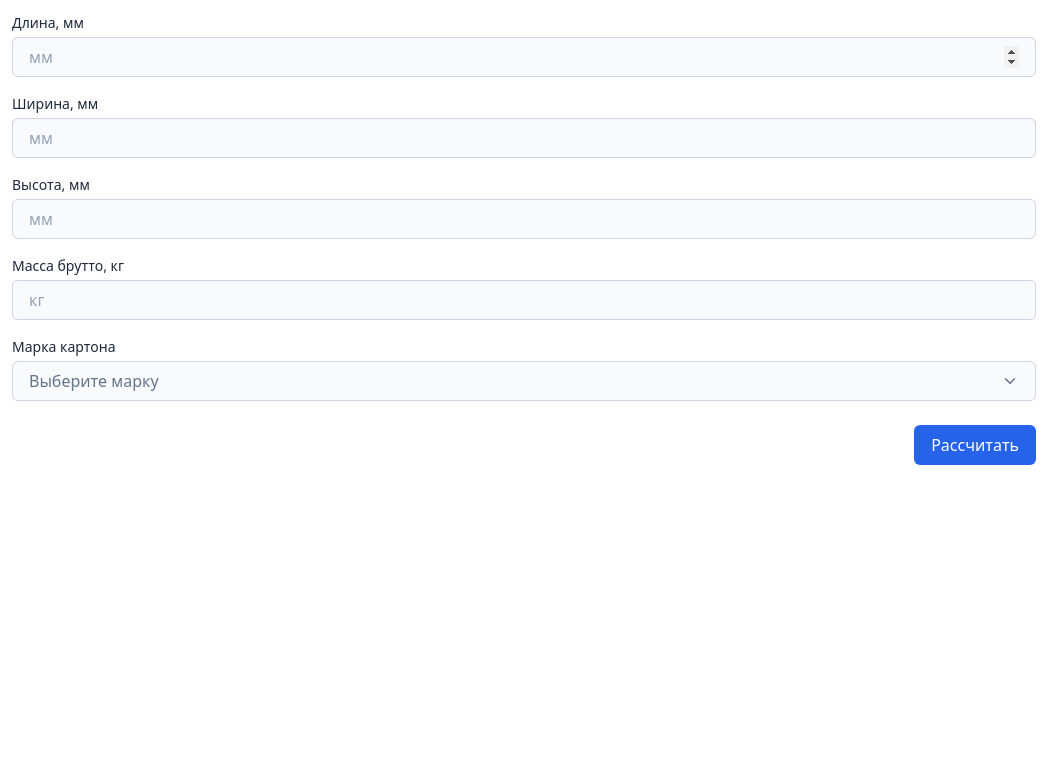
Test: BoxInputForm › валидация › показывает ошибку для нулевого значения
In the number field labelled "Длина, мм": (524, 57) [12,37,1036,77], type "0"
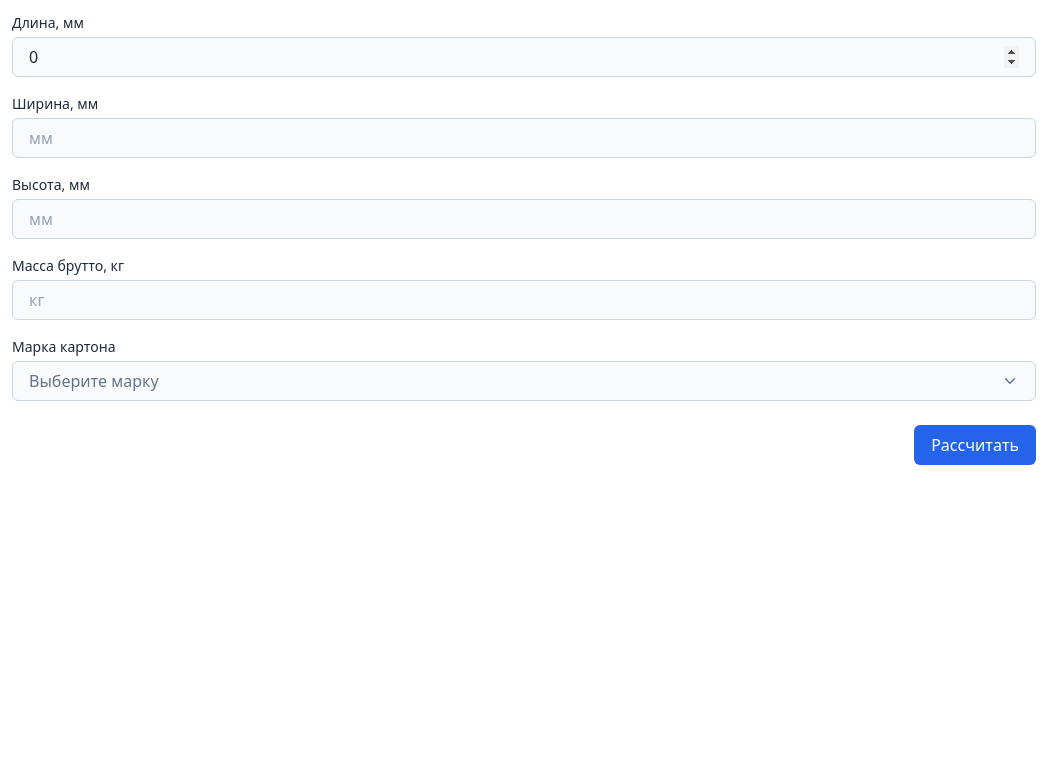
Submit the form with test id "box-input-form", box [12,12,1036,465]
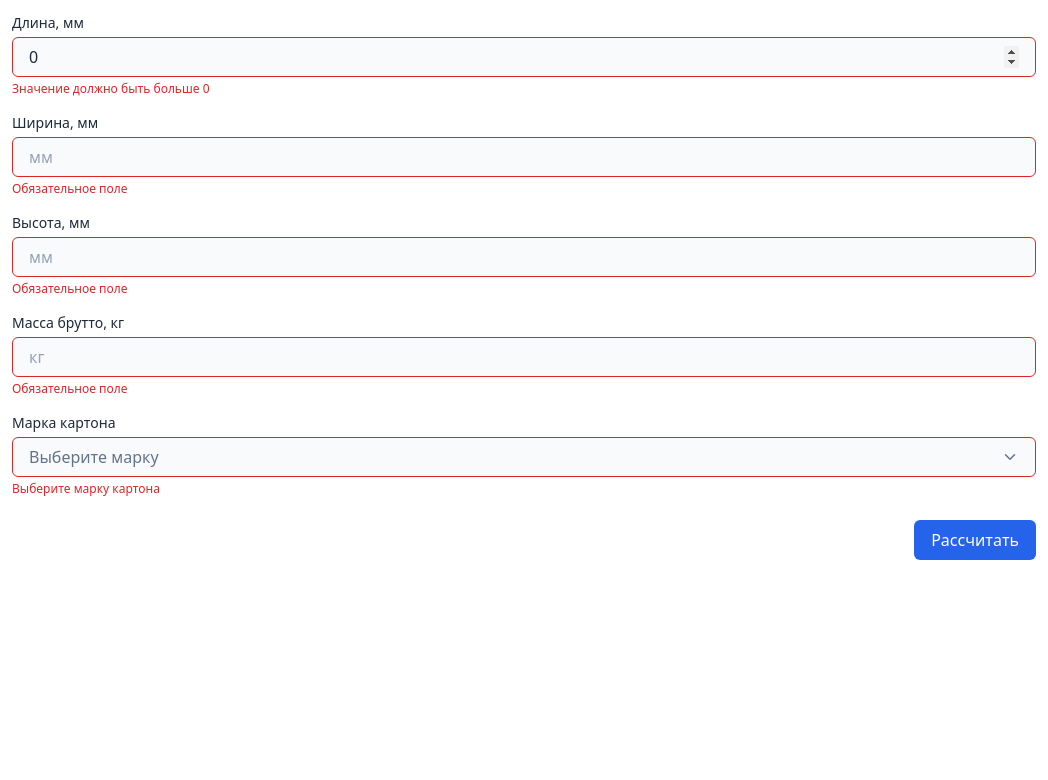
Now the text with test id "input-error" shows "больше 0", box [12,80,210,97]
